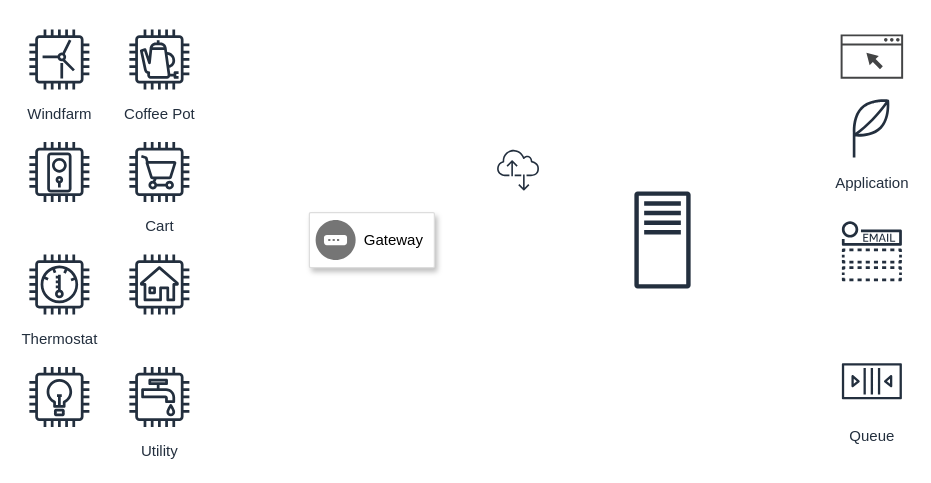
Image size: 931x483. Some labels were removed from this diagram. The shapes that lost their labels are listed below. From the top down, each one's centre as x and y in pixels, then its label:
the point at 59,171: Door Lock
the point at 871,250: Email notification
the point at 159,284: House
the point at 59,396: Lightbulb
